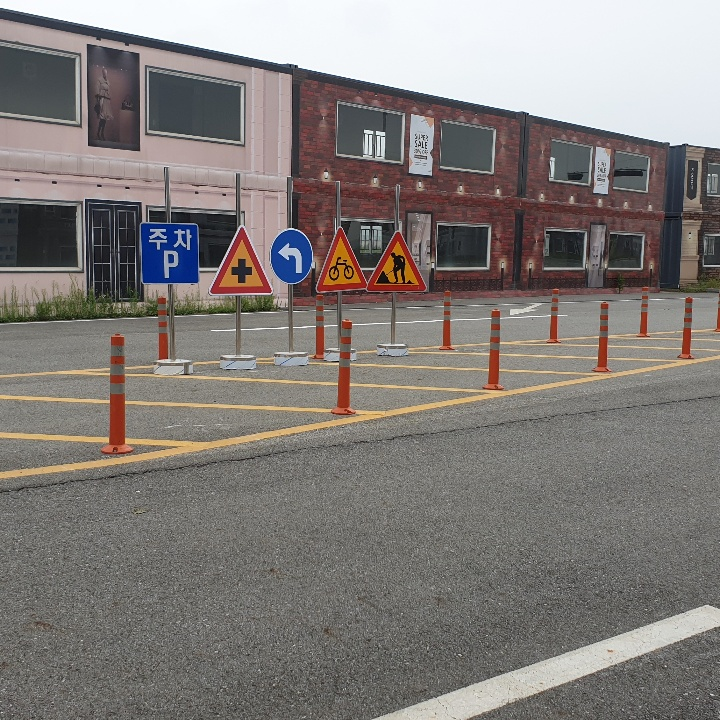bicycle: (319, 230, 363, 289)
const: (375, 244, 417, 290)
inter: (226, 253, 257, 290)
left: (273, 239, 307, 276)
parking: (158, 246, 182, 280)
